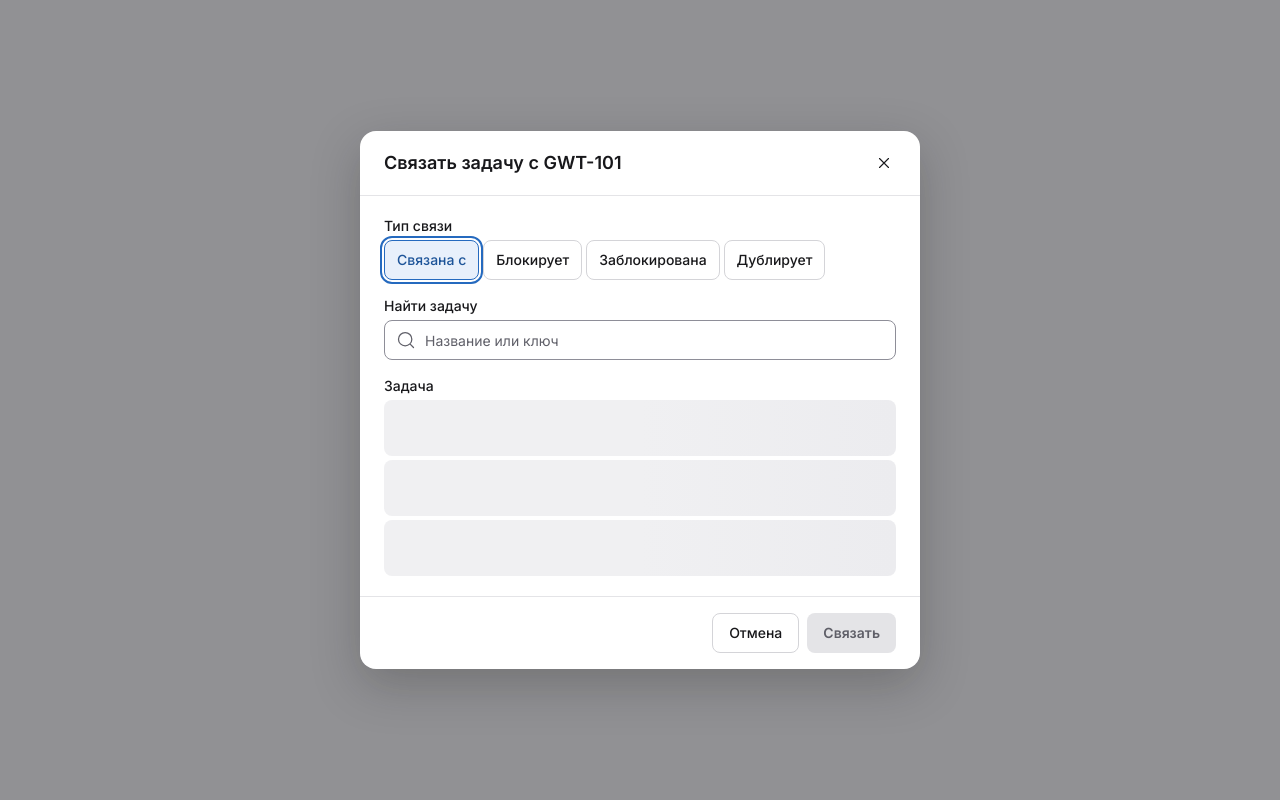
Test case: form submission availability › requires selecting a target before linking a task
The width and height of the screenshot is (1280, 800).
Click the button "Связать": coordinates (852, 633) [807, 613, 896, 653]
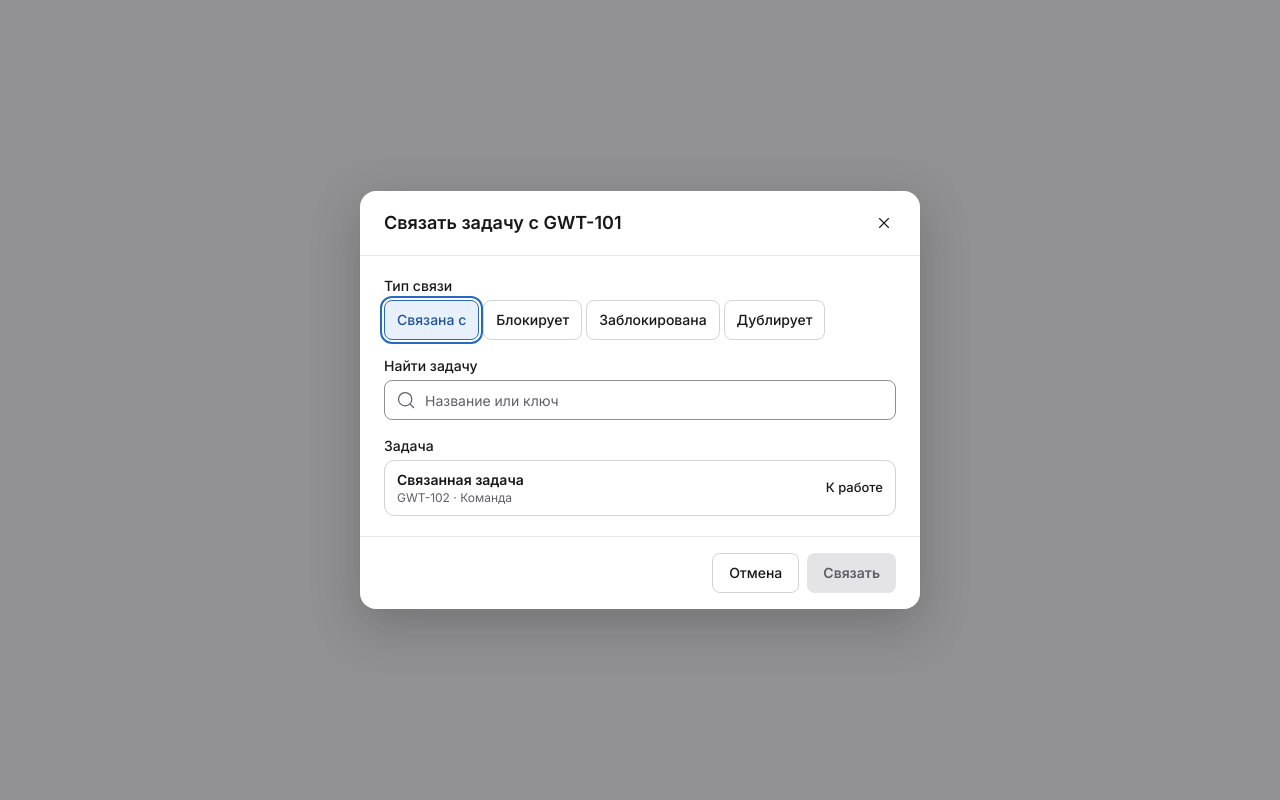
Click the button "Связанная задача GWT-102 · Команда К работе": coordinates (460, 480) [384, 460, 896, 516]
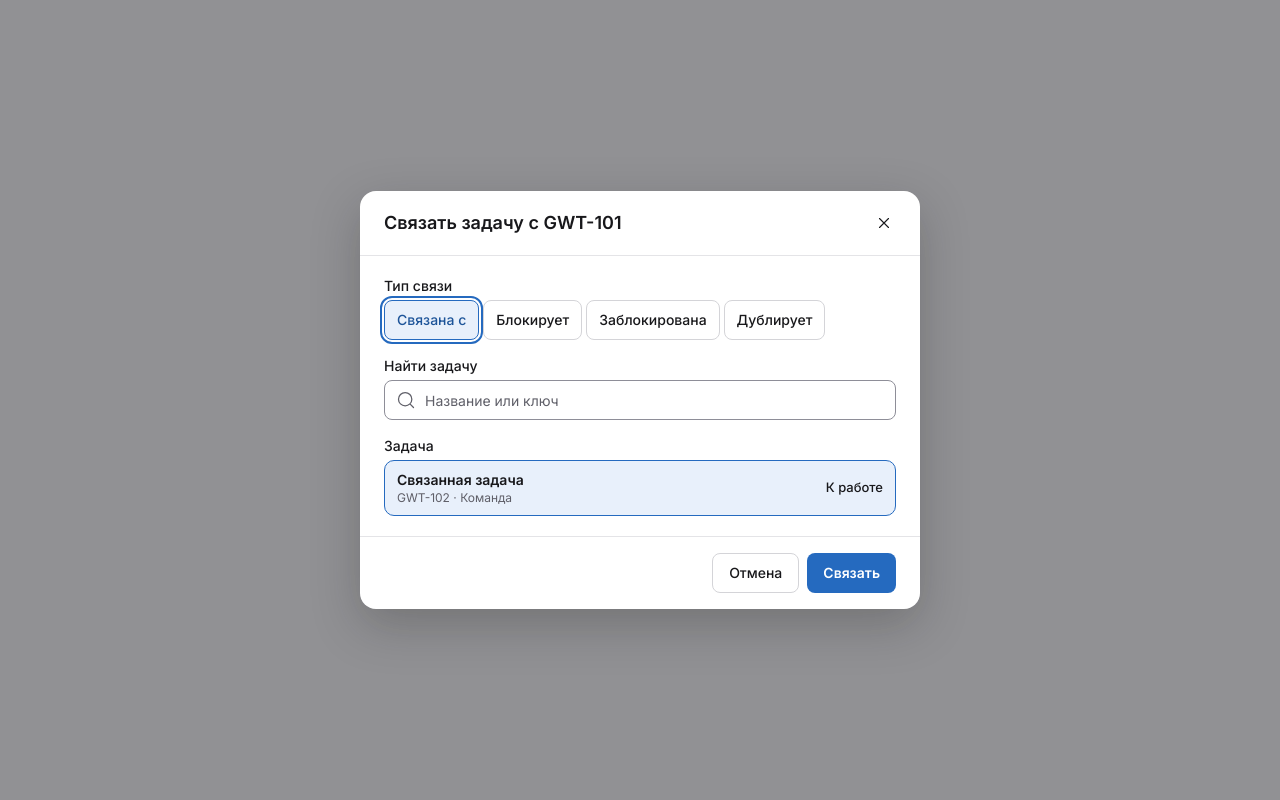
Now the button "Связать" is enabled, box [807, 553, 896, 593]
